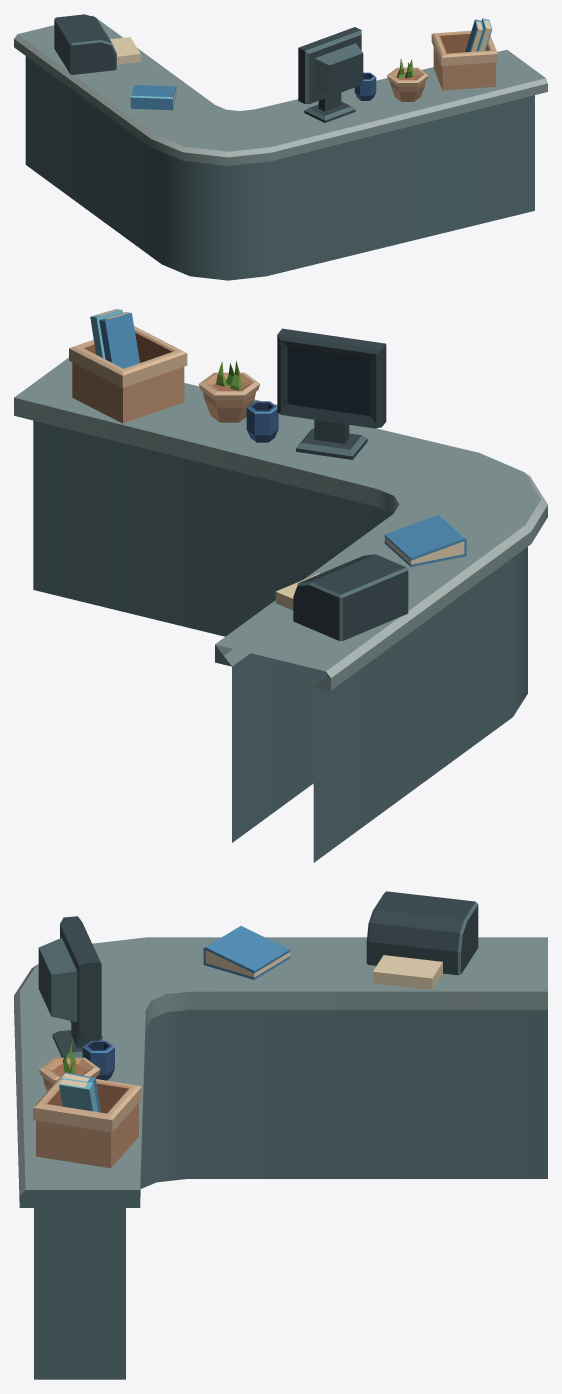
File: ReceptionDesk.fbx
The picture shows the model from 3 angles, top to bottom: view 1: azimuth 30°, elevation 25°; view 2: azimuth 150°, elevation 25°; view 3: azimuth 270°, elevation 25°; orthographic projection. The views are drawn at different scales.
Visible parts, largest first — view 1: ReceptionDesk; view 2: ReceptionDesk; view 3: ReceptionDesk.
Part boxes in pixels (<box>): ReceptionDesk: <box>14,14,547,280</box>; ReceptionDesk: <box>14,309,547,862</box>; ReceptionDesk: <box>14,891,547,1379</box>.
Size of the model in its own units: 193 by 107 by 170.
